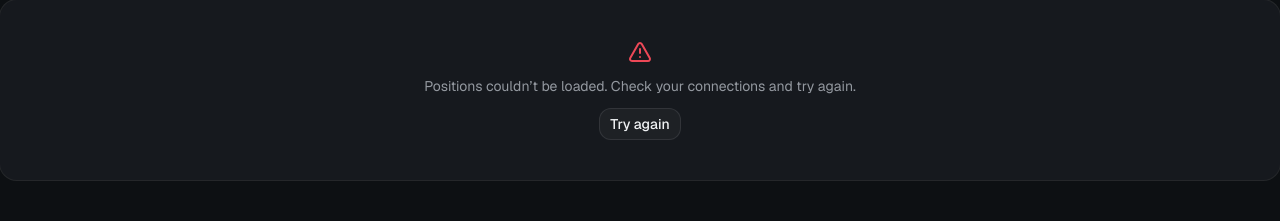
Test case: PositionsTable › offers a retry after an initial request error
expect the message "Positions couldn’t be loaded. Check your connections and try again." is shown: met, box [424, 76, 856, 96]
Click the button "Try again" at (640, 124), box [599, 108, 681, 140]
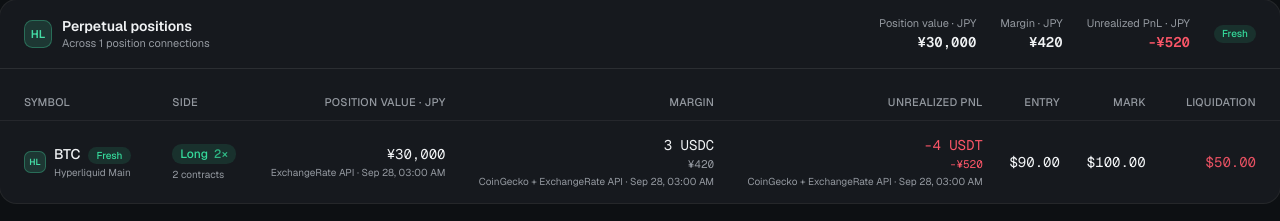
expect the text "BTC" is shown: met, box [54, 145, 80, 163]
